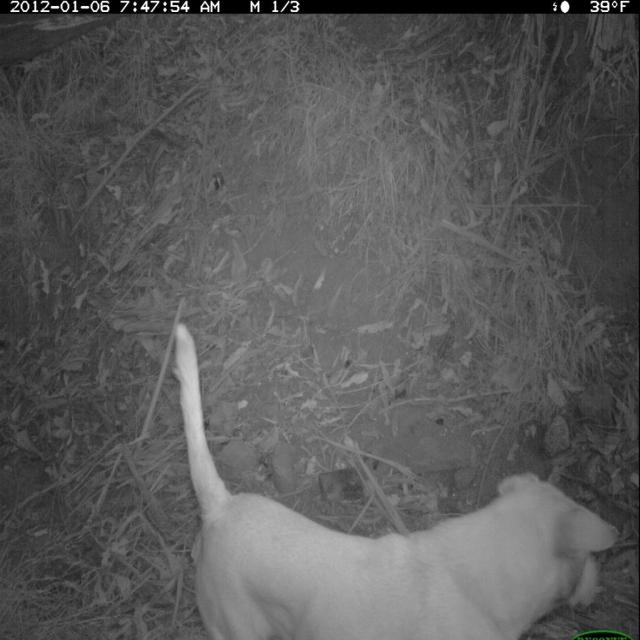dog: (173, 315, 627, 640)
